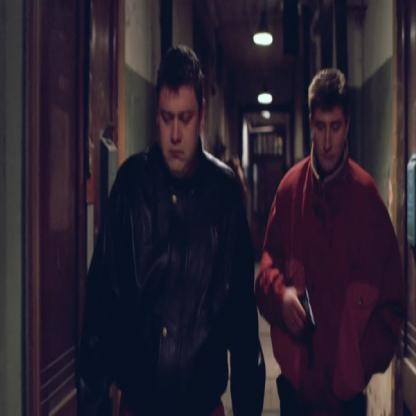Gun: (293, 280, 318, 336)
